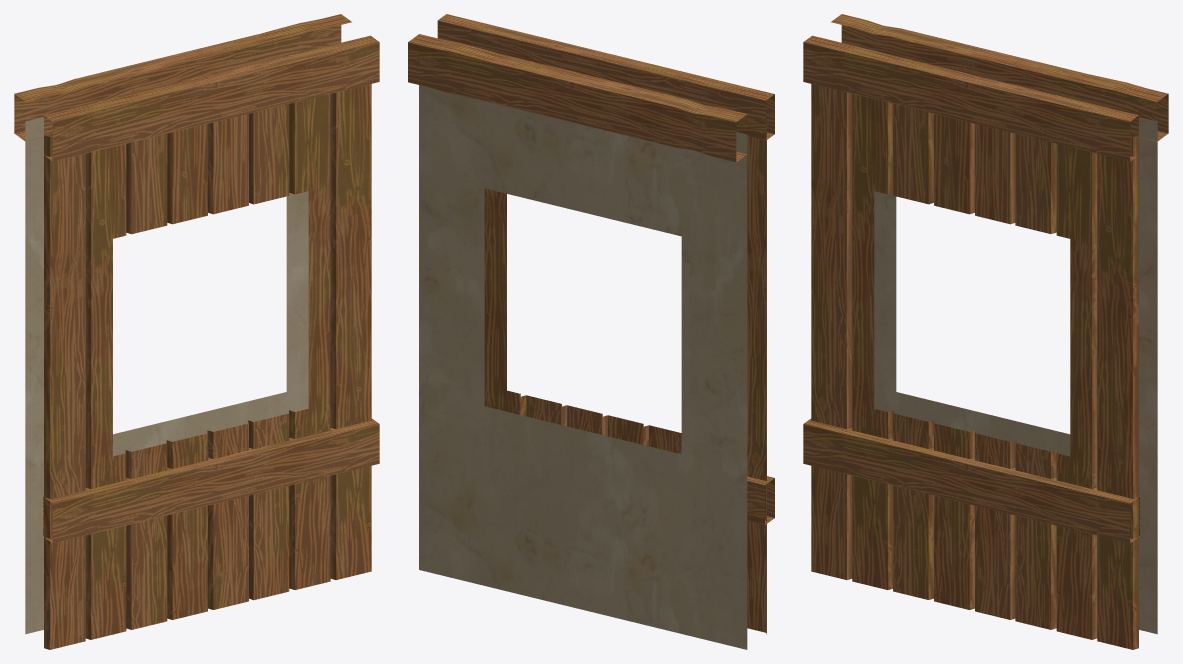
The model's file is Wall_WoodWear_Window_Wide_Flat.gltf.
3 renders of one model, left to right at view 1: azimuth 30°, elevation 25°; view 2: azimuth 150°, elevation 25°; view 3: azimuth 330°, elevation 25°, orthographic.
Visible parts, largest first — view 1: Wall_WoodWear_Window_Wide_Flat; view 2: Wall_WoodWear_Window_Wide_Flat; view 3: Wall_WoodWear_Window_Wide_Flat.
Part boxes in pixels (x1,y1,x2,y2): Wall_WoodWear_Window_Wide_Flat: (14,14,379,649); Wall_WoodWear_Window_Wide_Flat: (408,14,774,649); Wall_WoodWear_Window_Wide_Flat: (803,14,1168,649).
Size of the model in its own units: 2 by 3.12 by 0.4065.
Materials: 3 (3 with a texture image).
